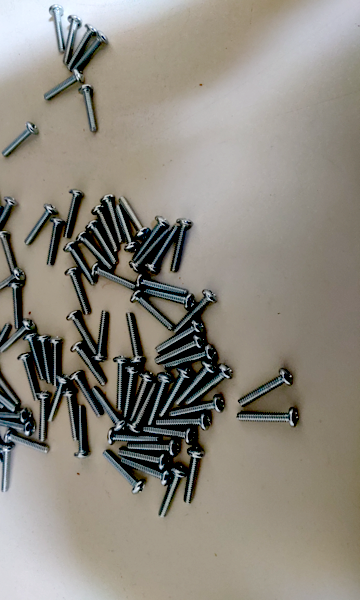longscrew: (238, 369, 293, 406), (154, 464, 188, 522), (173, 292, 218, 335), (130, 290, 175, 332), (146, 222, 181, 276), (177, 361, 217, 407), (132, 228, 171, 275), (90, 385, 125, 435), (187, 369, 232, 406), (102, 452, 142, 493), (154, 321, 205, 352), (132, 386, 162, 438), (132, 380, 162, 432), (156, 335, 206, 366), (69, 34, 109, 72), (161, 369, 190, 421), (132, 370, 161, 422), (72, 342, 107, 385), (67, 24, 99, 70), (162, 347, 215, 374), (78, 231, 112, 273), (22, 204, 56, 246), (182, 447, 206, 506), (169, 218, 194, 274), (63, 243, 97, 284), (133, 216, 165, 259), (87, 218, 116, 265), (92, 203, 120, 250), (47, 374, 72, 426), (75, 370, 102, 418), (0, 123, 38, 157), (0, 320, 34, 357), (68, 309, 96, 353), (43, 70, 84, 100), (102, 193, 127, 241), (64, 13, 86, 67), (121, 197, 149, 239), (135, 277, 192, 297), (116, 206, 140, 253), (92, 265, 137, 290), (121, 462, 172, 484), (45, 218, 67, 269), (66, 267, 89, 315), (62, 189, 84, 239), (125, 370, 147, 418), (18, 353, 40, 400), (139, 427, 200, 443), (156, 415, 217, 431), (168, 400, 229, 416), (238, 410, 299, 426), (0, 227, 18, 280), (81, 83, 99, 136), (49, 3, 68, 53), (38, 392, 56, 444), (118, 449, 170, 467), (93, 312, 112, 361), (115, 349, 130, 411), (25, 335, 45, 381), (129, 309, 144, 368), (74, 405, 90, 459), (144, 290, 196, 306), (0, 445, 16, 496), (3, 436, 52, 452), (0, 367, 21, 404), (10, 281, 25, 330), (39, 332, 52, 388), (67, 390, 81, 440), (0, 196, 16, 239), (0, 270, 25, 297), (51, 336, 63, 388), (109, 433, 161, 445), (127, 444, 183, 455), (0, 322, 12, 366), (0, 383, 16, 412), (0, 423, 37, 435), (0, 410, 31, 422), (0, 387, 6, 409), (0, 423, 2, 465)
